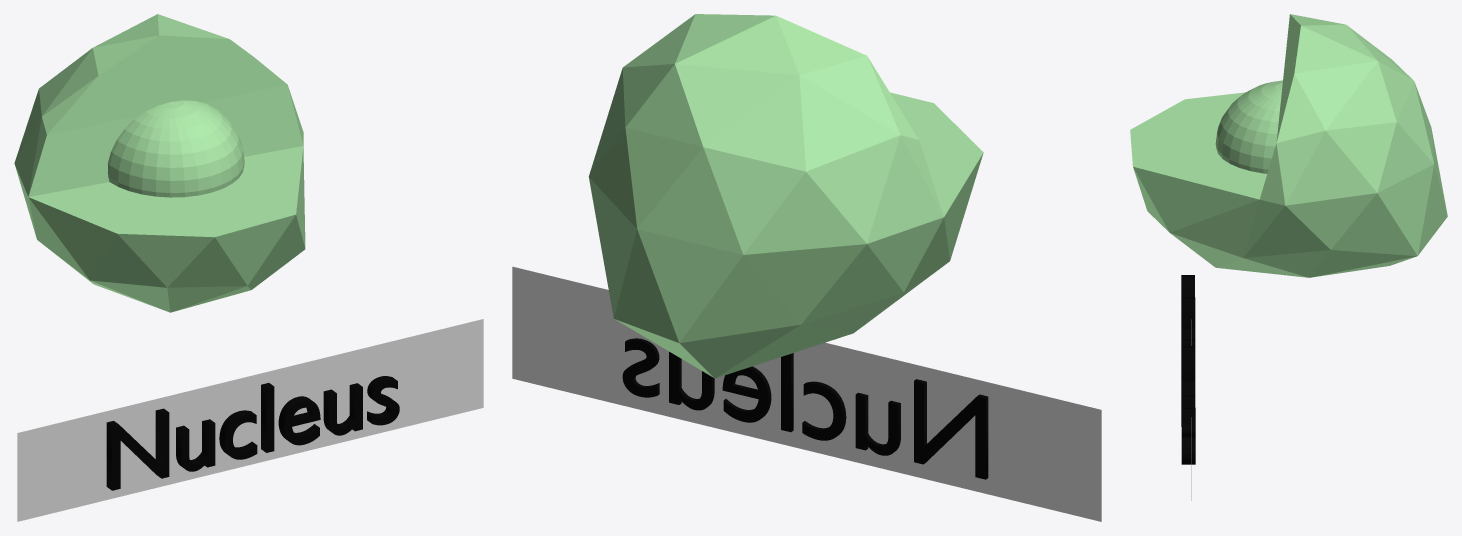
The model's file is nucleus.gltf.
3 views of the same model, side by side, from view 1: azimuth 30°, elevation 25°; view 2: azimuth 150°, elevation 25°; view 3: azimuth 270°, elevation 25° (orthographic). The views are drawn at different scales.
Parts seen in each view (by area): view 1: Icosphere.003, Plane, Text; view 2: Icosphere.003, Plane, Text; view 3: Icosphere.003, Text.
Boxes of the visible parts, x1,y1,x2,y2 form: Icosphere.003: (14,14,305,312); Plane: (17,319,483,521); Text: (106,376,399,490); Icosphere.003: (588,14,983,378); Plane: (512,266,1101,521); Text: (622,338,988,479); Icosphere.003: (1130,14,1447,277); Text: (1181,275,1195,464).
Bounding box in the file's own units: 1.33 × 1.08 × 0.8332.
